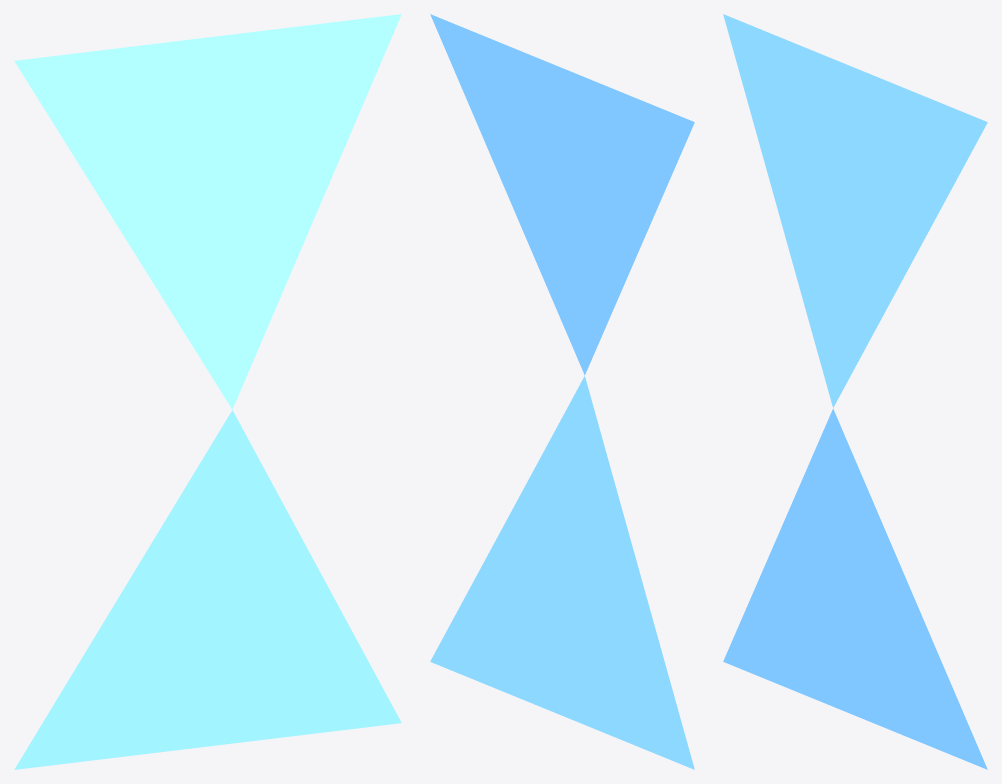
The model's file is surface-transforms.gltf.
3 renders of one model, left to right at view 1: azimuth 30°, elevation 25°; view 2: azimuth 150°, elevation 25°; view 3: azimuth 330°, elevation 25°, orthographic. The views are drawn at different scales.
Parts seen in each view (by area): view 1: Scaled, Mirrored; view 2: Mirrored, Scaled; view 3: Scaled, Mirrored.
Boxes of the visible parts, x1,y1,x2,y2 form: Scaled: (14, 14, 401, 409); Mirrored: (14, 410, 401, 769); Mirrored: (430, 376, 694, 769); Scaled: (430, 14, 694, 375); Scaled: (723, 14, 987, 407); Mirrored: (723, 408, 987, 769).
Size of the model in its own units: 2 by 4 by 0.5.
